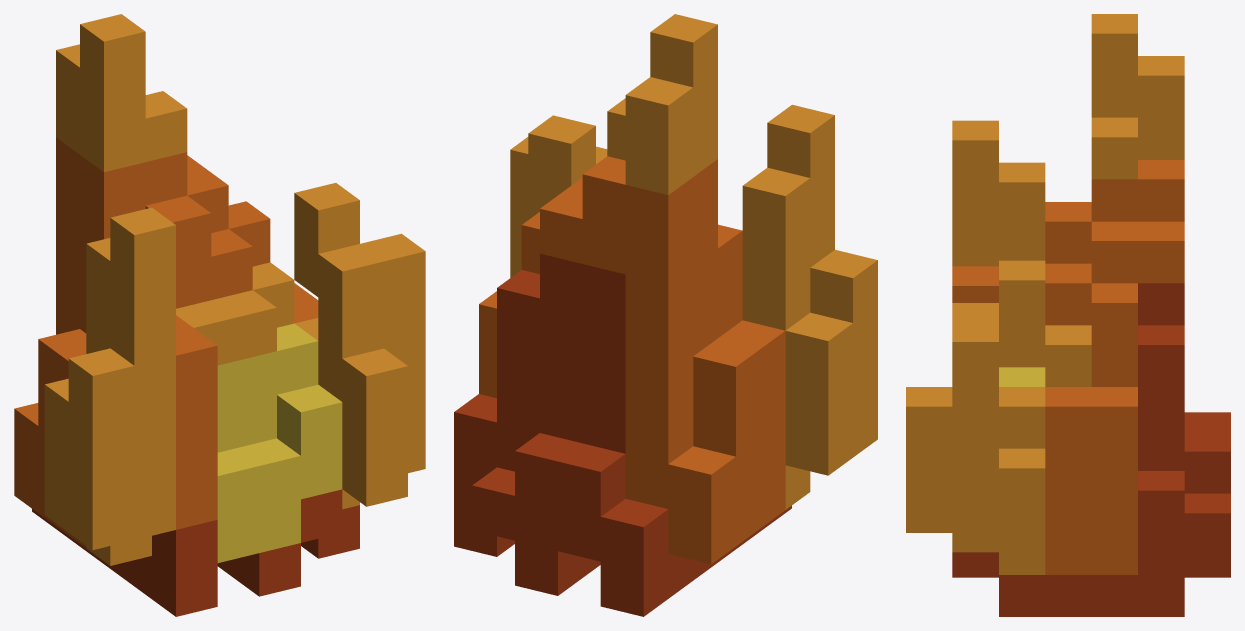
The model's file is flame_01.glb.
The picture shows the model from 3 angles, left to right: view 1: azimuth 30°, elevation 25°; view 2: azimuth 150°, elevation 25°; view 3: azimuth 270°, elevation 25°; orthographic projection. The views are drawn at different scales.
Parts seen in each view (by area): view 1: flame_01; view 2: flame_01; view 3: flame_01.
Part boxes in pixels (left/top/right/bottom): flame_01: left=14, top=14, right=425, bottom=616; flame_01: left=454, top=14, right=877, bottom=616; flame_01: left=906, top=14, right=1230, bottom=616.
Size of the model in its own units: 1 by 1.5 by 0.875.
